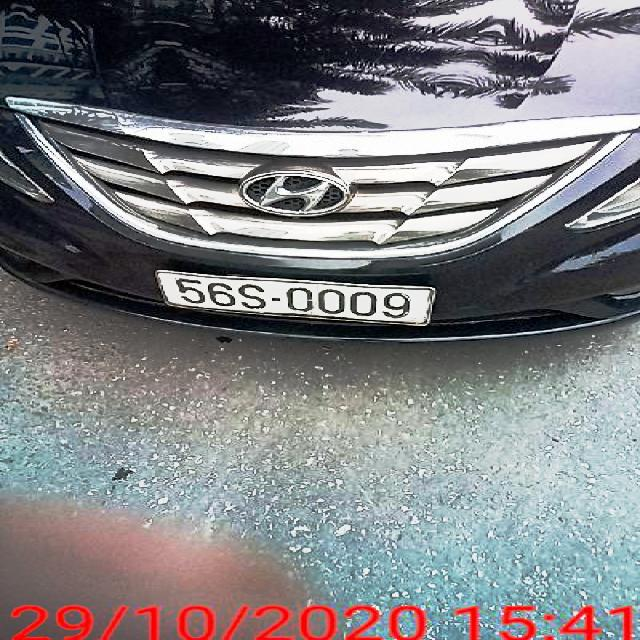license_plate: (159, 272, 437, 326)
